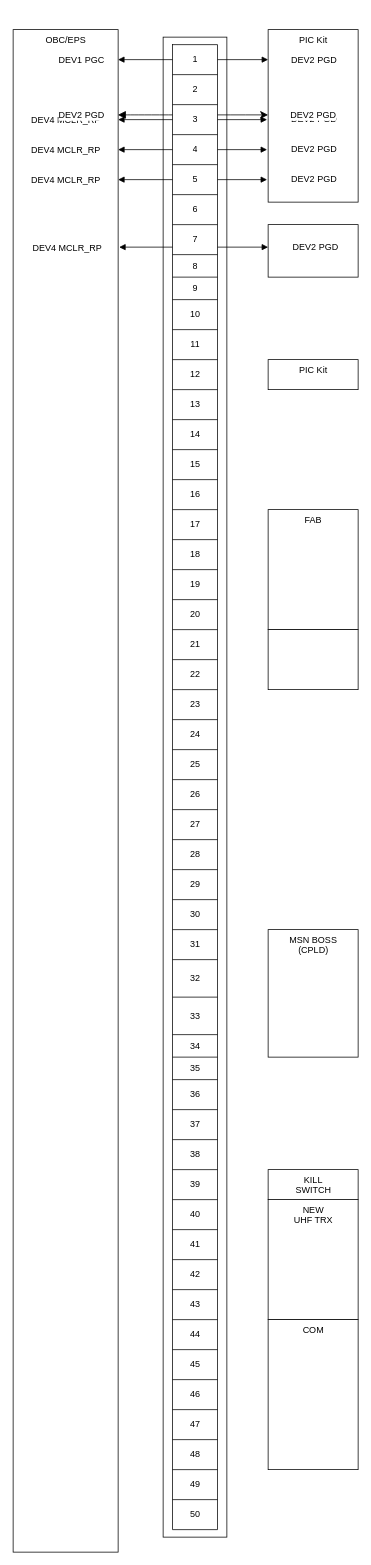
Some shapes in this 371 by 1565 pixel diagram are drawn without their labels. The shapes that lost their labels are listed below. From the top down, each one's box as (x1, y1, x2, y2) in pixels, then its label:
(267, 224, 358, 277): UHF TRX
(267, 629, 358, 690): MSN BOSS
(162, 36, 227, 1537): 50 Pin Connector
